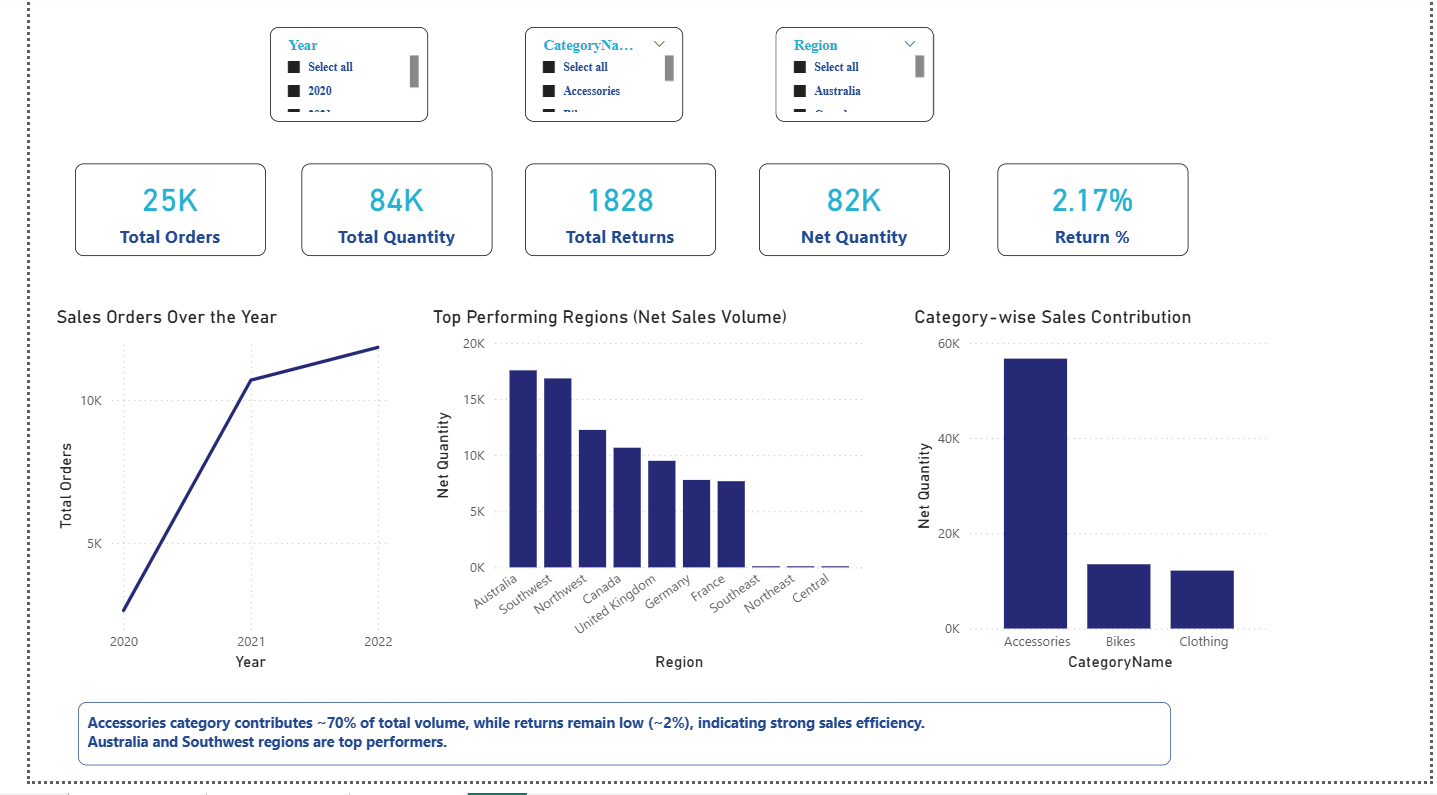

Layout of this report page (visuals, bound fields, positions):
{"tool":"powerbi","page":{"name":"Page 1","canvas":[1280,720],"ordinal":0},"visuals":[{"type":"card","fields":{"Values":["AdventureWorks Calendar Lookup.Total Quantity"]},"box":[247.8,154.4,174.4,84.4],"z":0},{"type":"card","fields":{"Values":["AdventureWorks Calendar Lookup.Total Orders"]},"box":[41.1,154.4,174.4,84.4],"z":1000},{"type":"card","fields":{"Values":["AdventureWorks Calendar Lookup.Total Returns"]},"box":[453.3,154.4,174.4,84.4],"z":2000},{"type":"card","fields":{"Values":["AdventureWorks Calendar Lookup.Net Quantity"]},"box":[666.7,154.4,174.4,84.4],"z":3000},{"type":"lineChart","title":"Sales Orders Over the Year","fields":{"Category":["AdventureWorks Calendar Lookup.Date.Variation.Date Hierarchy.Year"],"Y":["AdventureWorks Calendar Lookup.Total Orders"]},"box":[18.9,285.6,316.7,337.8],"z":4000},{"type":"clusteredColumnChart","title":"Top Performing Regions (Net Sales Volume)","fields":{"Category":["AdventureWorks Territory Lookup.Region"],"Y":["AdventureWorks Calendar Lookup.Net Quantity"]},"box":[363.3,285.6,403.3,337.8],"z":5000},{"type":"clusteredColumnChart","title":"Category-wise Sales Contribution","fields":{"Category":["AdventureWorks Product Categories Lookup.CategoryName"],"Y":["AdventureWorks Calendar Lookup.Net Quantity"]},"box":[804.4,285.6,335.6,337.8],"z":6000},{"type":"card","fields":{"Values":["AdventureWorks Calendar Lookup.Return %"]},"box":[885.6,154.4,174.4,84.4],"z":7000},{"type":"slicer","fields":{"Values":["AdventureWorks Calendar Lookup.Date.Variation.Date Hierarchy.Year"]},"box":[218.9,30,144.4,86.7],"z":8000},{"type":"slicer","fields":{"Values":["AdventureWorks Product Categories Lookup.CategoryName"]},"box":[453.3,30,144.4,86.7],"z":9000},{"type":"slicer","fields":{"Values":["AdventureWorks Territory Lookup.Region"]},"box":[682.2,30,144.4,86.7],"z":10000},{"type":"textbox","box":[44.4,647.8,1000,57.8],"z":11000}]}

Visuals, with their boxes in screenshot pixels (x1, y1, x2, y2), scaled from the page's 1280x720 canvas onto the 1437x795 screenshot:
card - AdventureWorks Calendar Lookup.Total Quantity: l=278, t=170, r=474, b=264
card - AdventureWorks Calendar Lookup.Total Orders: l=46, t=170, r=242, b=264
card - AdventureWorks Calendar Lookup.Total Returns: l=509, t=170, r=705, b=264
card - AdventureWorks Calendar Lookup.Net Quantity: l=748, t=170, r=944, b=264
"Sales Orders Over the Year" lineChart: l=21, t=315, r=377, b=688
"Top Performing Regions (Net Sales Volume)" clusteredColumnChart: l=408, t=315, r=861, b=688
"Category-wise Sales Contribution" clusteredColumnChart: l=903, t=315, r=1280, b=688
card - AdventureWorks Calendar Lookup.Return %: l=994, t=170, r=1190, b=264
slicer - AdventureWorks Calendar Lookup.Date.Variation.Date Hierarchy.Year: l=246, t=33, r=408, b=129
slicer - AdventureWorks Product Categories Lookup.CategoryName: l=509, t=33, r=671, b=129
slicer - AdventureWorks Territory Lookup.Region: l=766, t=33, r=928, b=129
textbox: l=50, t=715, r=1173, b=779
